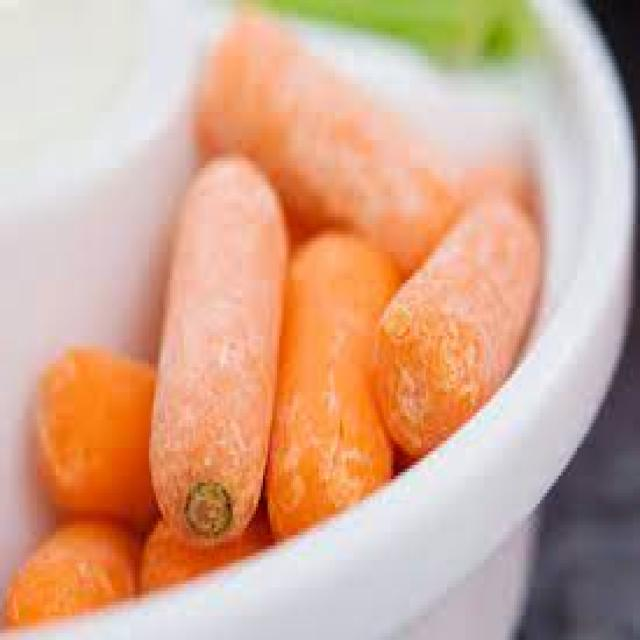Fresh_Carrot: (36, 66, 548, 601)
